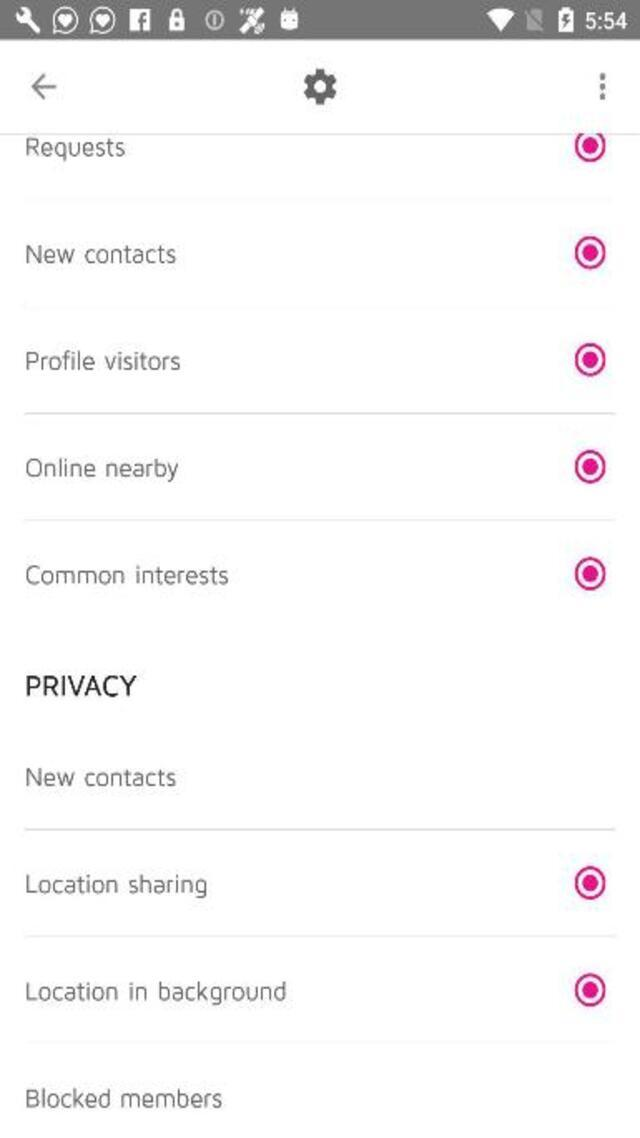CheckedTextView: (26, 236, 606, 270), (26, 342, 606, 376), (26, 449, 606, 483), (26, 555, 606, 589), (26, 865, 606, 899), (26, 972, 606, 1005), (27, 134, 605, 162)
Icon: (302, 68, 336, 106), (30, 74, 56, 100), (598, 73, 606, 101)
Text: (27, 980, 286, 1004), (27, 873, 206, 898), (27, 565, 230, 585), (26, 1087, 222, 1107), (27, 457, 180, 482), (26, 350, 180, 372), (27, 244, 176, 264), (27, 767, 176, 787), (27, 676, 136, 697), (26, 138, 124, 161)
